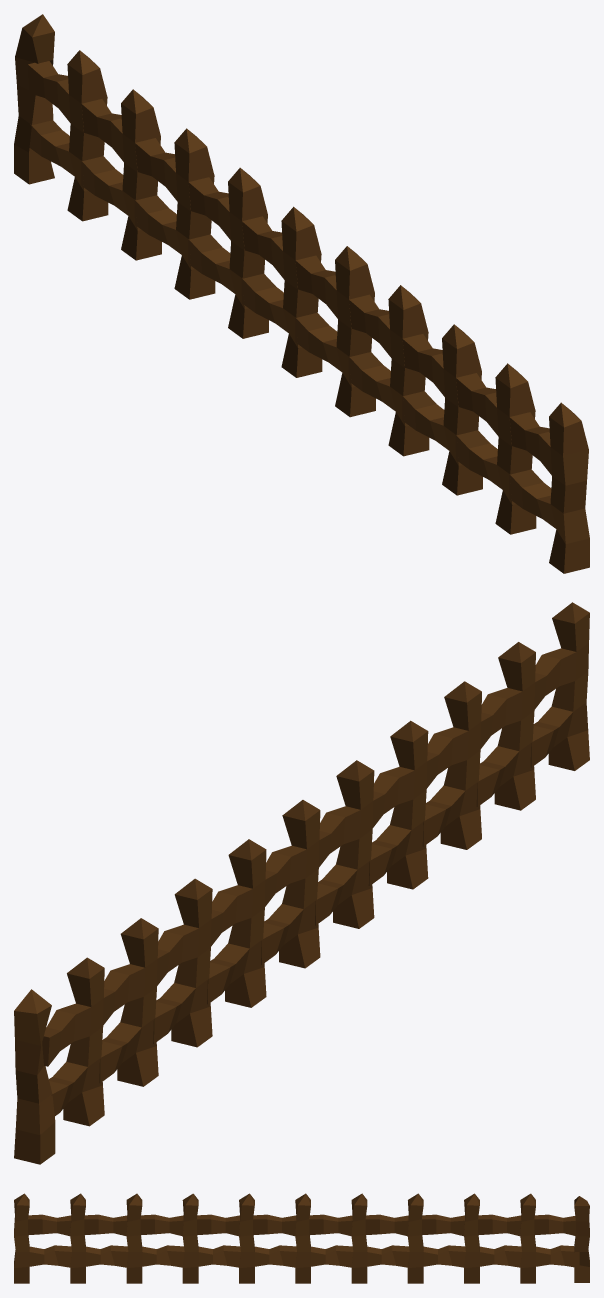
Rendered from fence.fbx.
The picture shows the model from 3 angles, top to bottom: view 1: azimuth 30°, elevation 25°; view 2: azimuth 150°, elevation 25°; view 3: azimuth 270°, elevation 25°; orthographic projection. The views are drawn at different scales.
Parts seen in each view (by area): view 1: Cube; view 2: Cube; view 3: Cube.
Boxes of the visible parts, x1,y1,x2,y2 form: Cube: (14,14,589,573); Cube: (14,602,589,1164); Cube: (14,1193,589,1283).
Bounding box in the file's own units: 60.8 × 325 × 1990.
